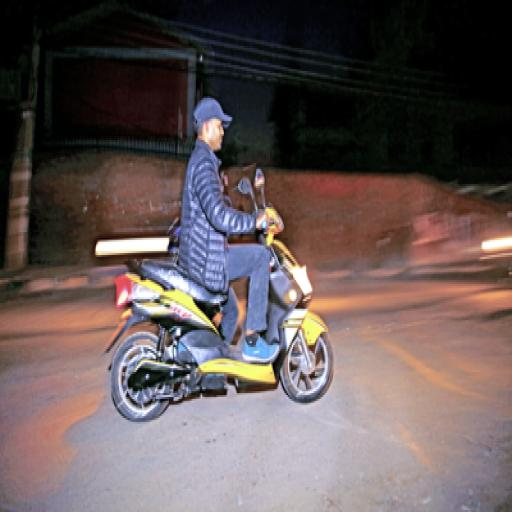Without Helmet: (188, 81, 233, 159)
